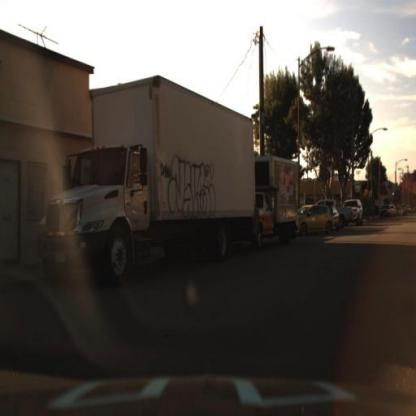car: (296, 203, 336, 236), (299, 204, 336, 238), (352, 197, 368, 227), (340, 203, 356, 228), (379, 204, 392, 222)
truck: (29, 67, 262, 279), (37, 69, 258, 278), (235, 157, 301, 245), (254, 157, 303, 251)
